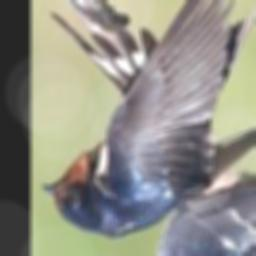Swallow: (41, 0, 256, 238), (157, 183, 256, 256)
